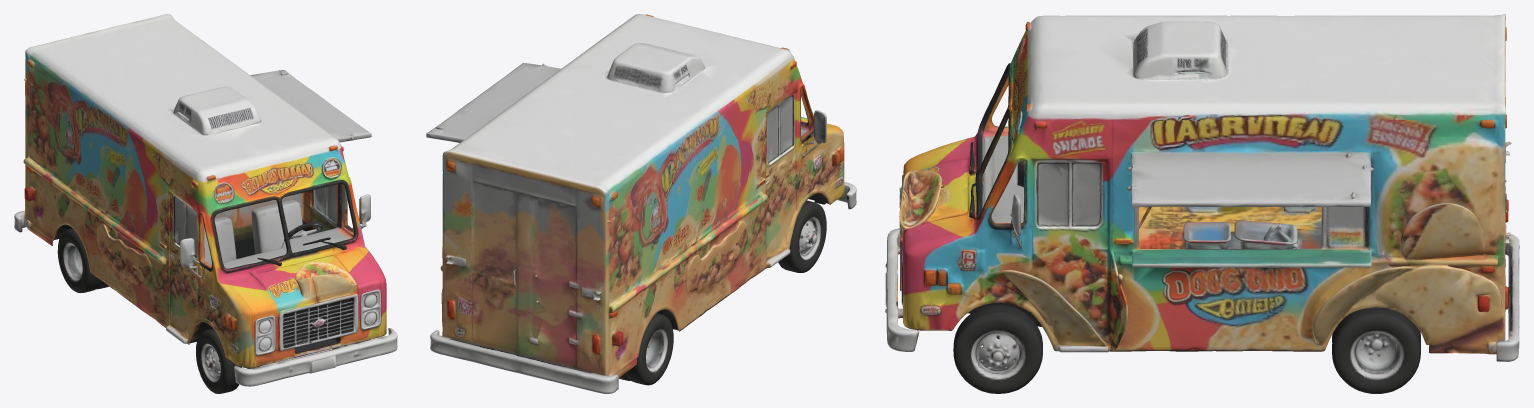
File: 055_taco_food_truck.glb
3 views of the same model, side by side, from view 1: azimuth 30°, elevation 25°; view 2: azimuth 150°, elevation 25°; view 3: azimuth 270°, elevation 25° (orthographic). The views are drawn at different scales.
Parts seen in each view (by area): view 1: geometry_0; view 2: geometry_0; view 3: geometry_0.
Boxes of the visible parts, x1=… form: geometry_0: x1=14, y1=14, x2=397, y2=393; geometry_0: x1=426, y1=14, x2=856, y2=393; geometry_0: x1=885, y1=14, x2=1519, y2=393.
Size of the model in its own units: 3.78 by 3.5 by 6.5.
1 material, 1 textured.
